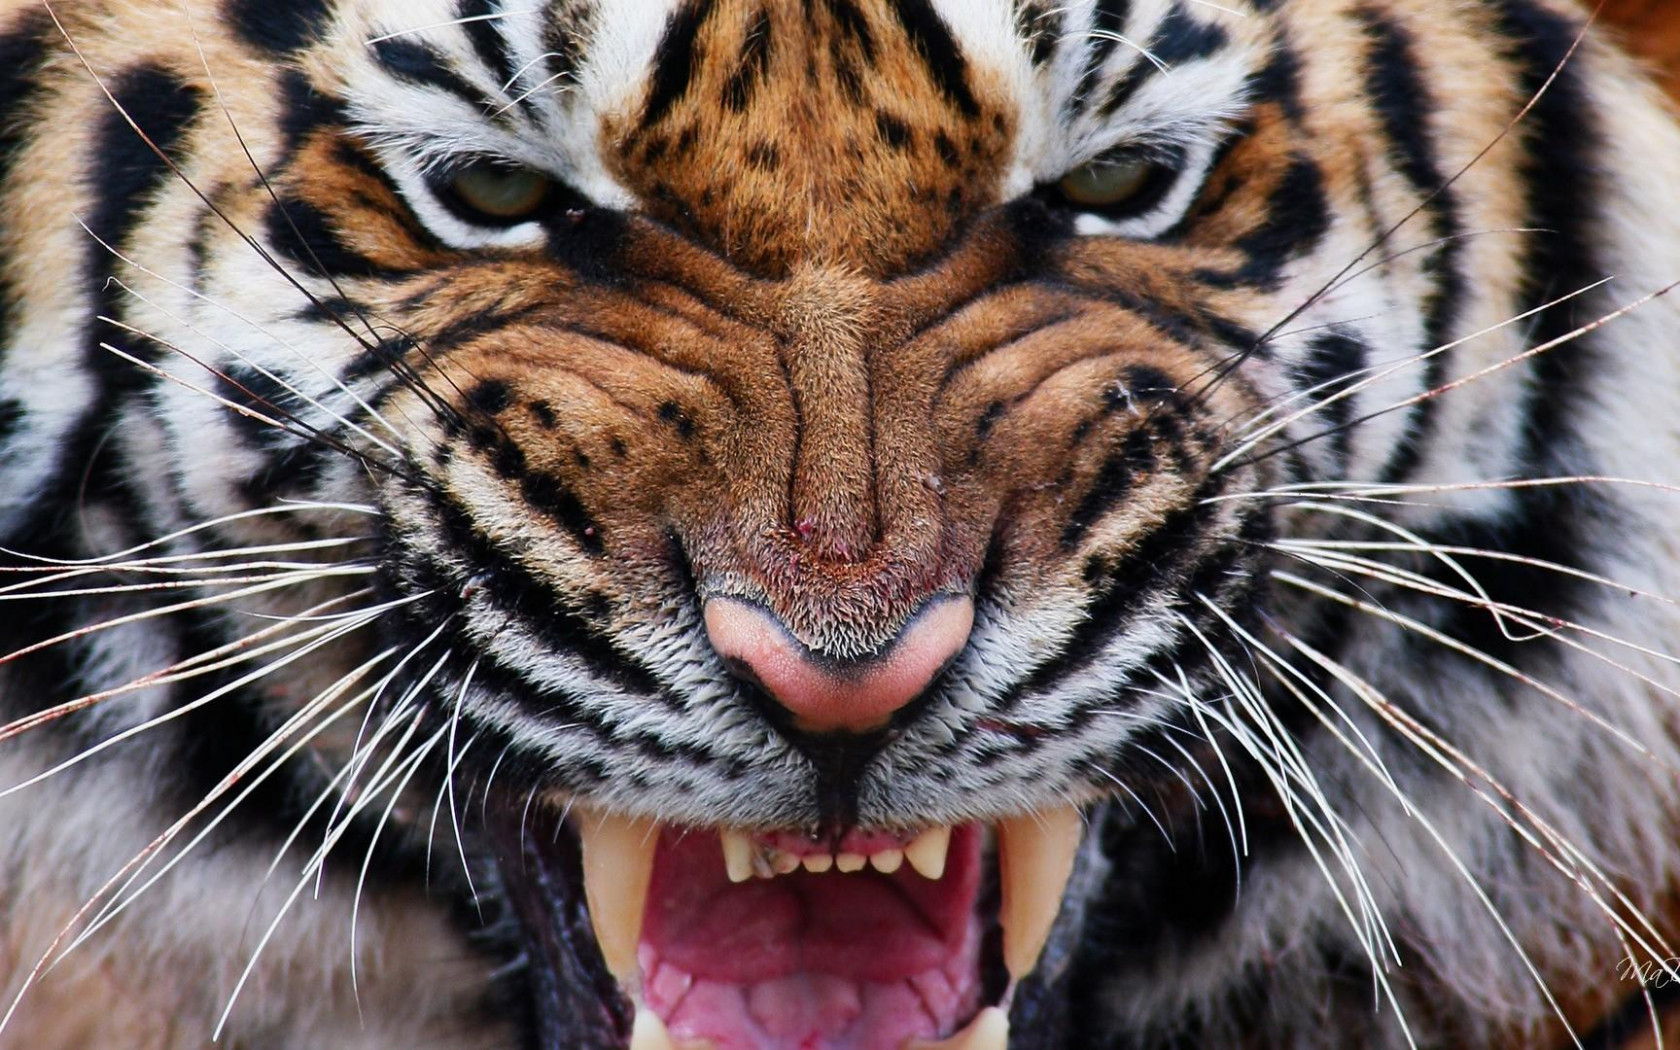Tigrew: (67, 21, 1613, 1040)
